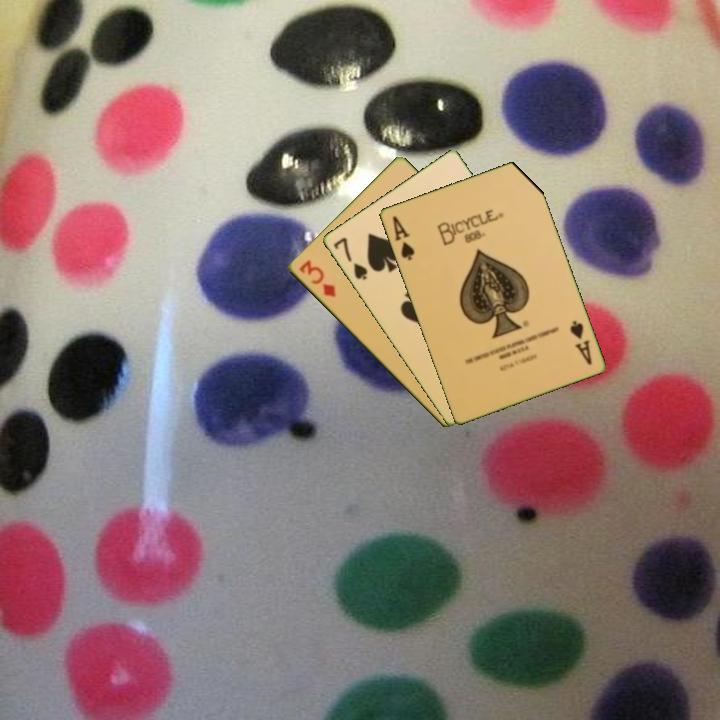3d: (295, 256, 339, 300)
7s: (329, 233, 370, 283)
As: (388, 212, 417, 263), (566, 317, 594, 368)
